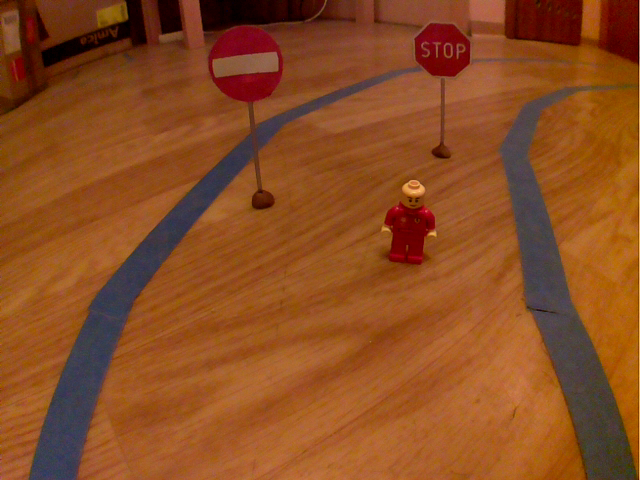Postac LEGO: (377, 172, 444, 272)
Stop: (409, 17, 477, 83)
Zakaz: (204, 20, 288, 108)
